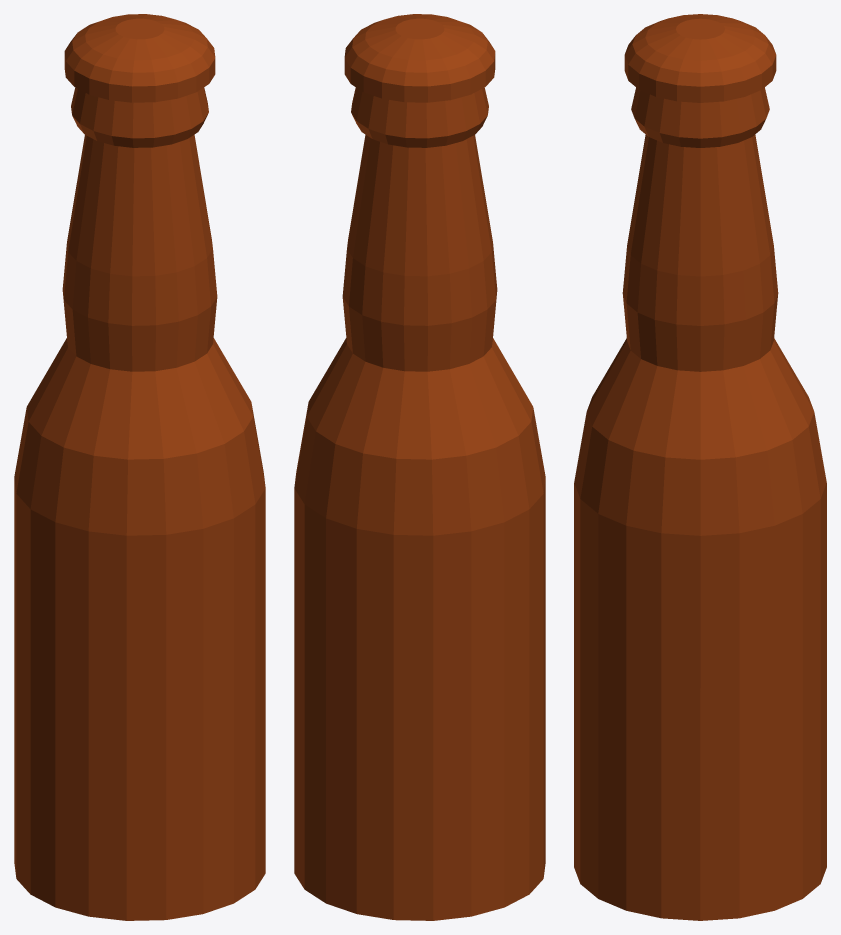
File: Bottle3.fbx
The picture shows the model from 3 angles, left to right: view 1: azimuth 30°, elevation 25°; view 2: azimuth 150°, elevation 25°; view 3: azimuth 270°, elevation 25°; orthographic projection.
Visible parts, largest first — view 1: Buttle2.003; view 2: Buttle2.003; view 3: Buttle2.003.
Part boxes in pixels (x1,y1,x2,y2): Buttle2.003: [14, 14, 265, 920]; Buttle2.003: [294, 14, 545, 920]; Buttle2.003: [574, 14, 826, 920].
Size of the model in its own units: 388 by 1421 by 388.
